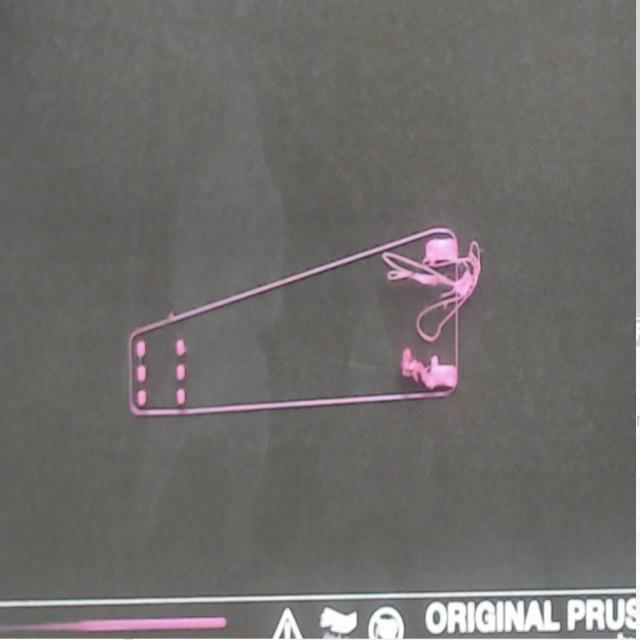mistake: (382, 252, 477, 299), (401, 355, 457, 390), (416, 299, 452, 342), (135, 340, 148, 407)
